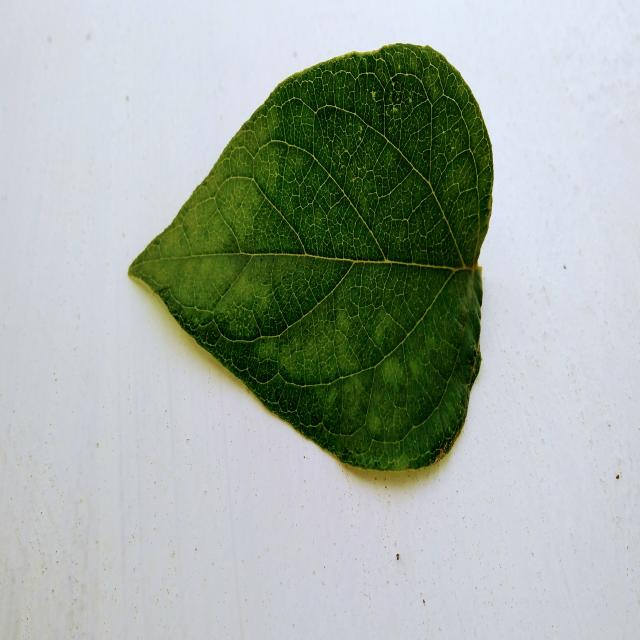Parijatha: (129, 44, 494, 469)
